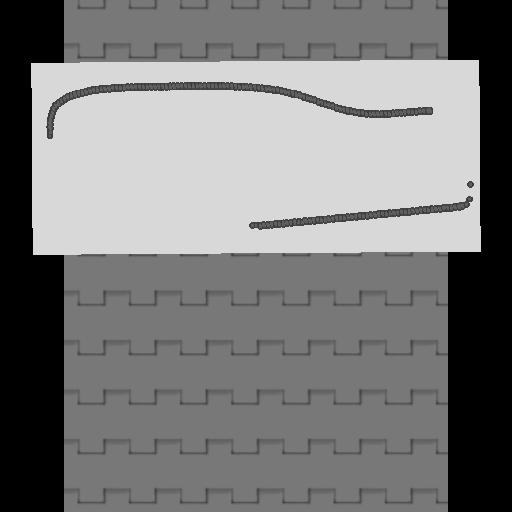Defect: (40, 134, 255, 239)
